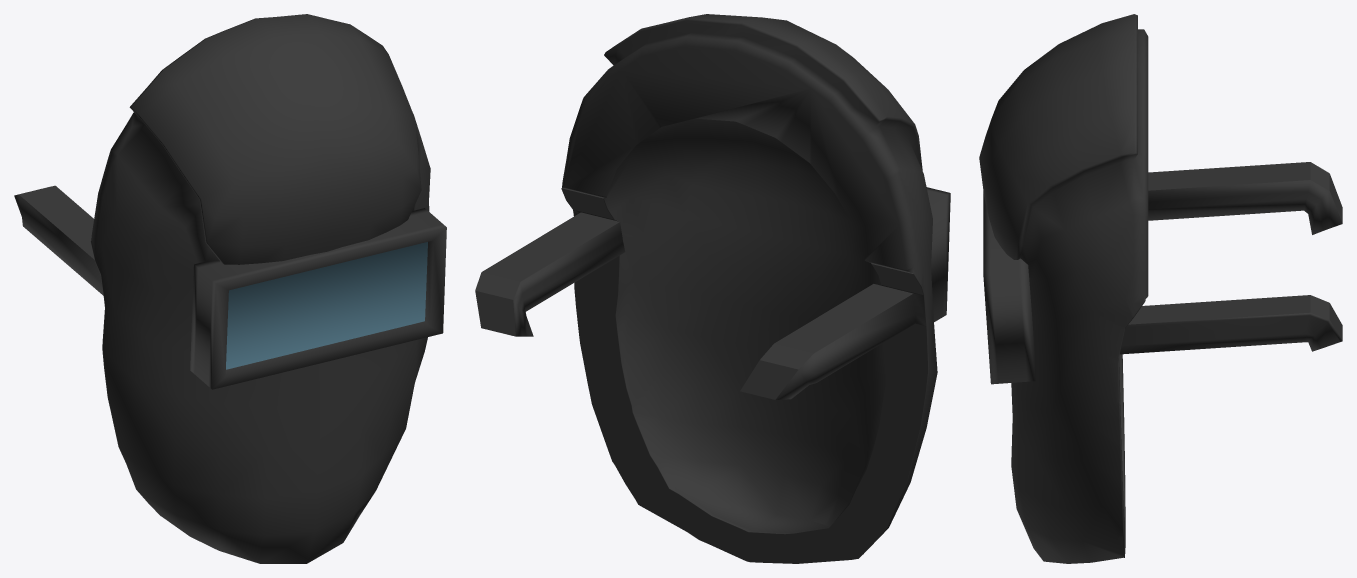
The model's file is svarshik_face_model_1.gltf.
3 renders of one model, left to right at view 1: azimuth 30°, elevation 25°; view 2: azimuth 150°, elevation 25°; view 3: azimuth 270°, elevation 25°, orthographic. The views are drawn at different scales.
Parts seen in each view (by area): view 1: Куб; view 2: Куб; view 3: Куб.
Part boxes in pixels (left/top/right/bottom): Куб: left=14, top=14, right=446, bottom=563; Куб: left=475, top=14, right=950, bottom=563; Куб: left=979, top=14, right=1342, bottom=563.
Size of the model in its own units: 16.9 by 25.33 by 16.14.
